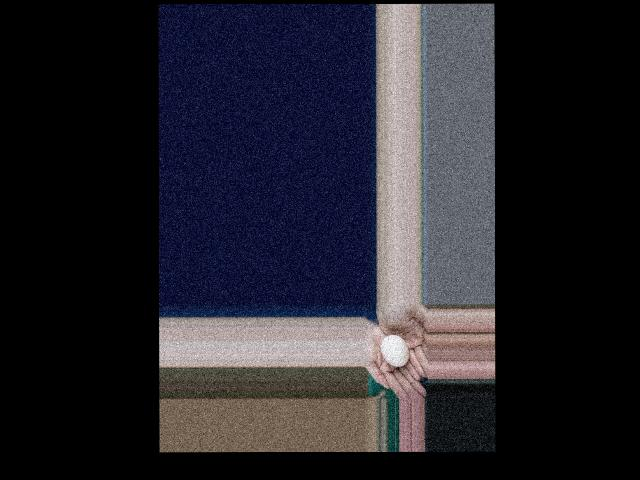egg: (381, 335, 408, 367)
